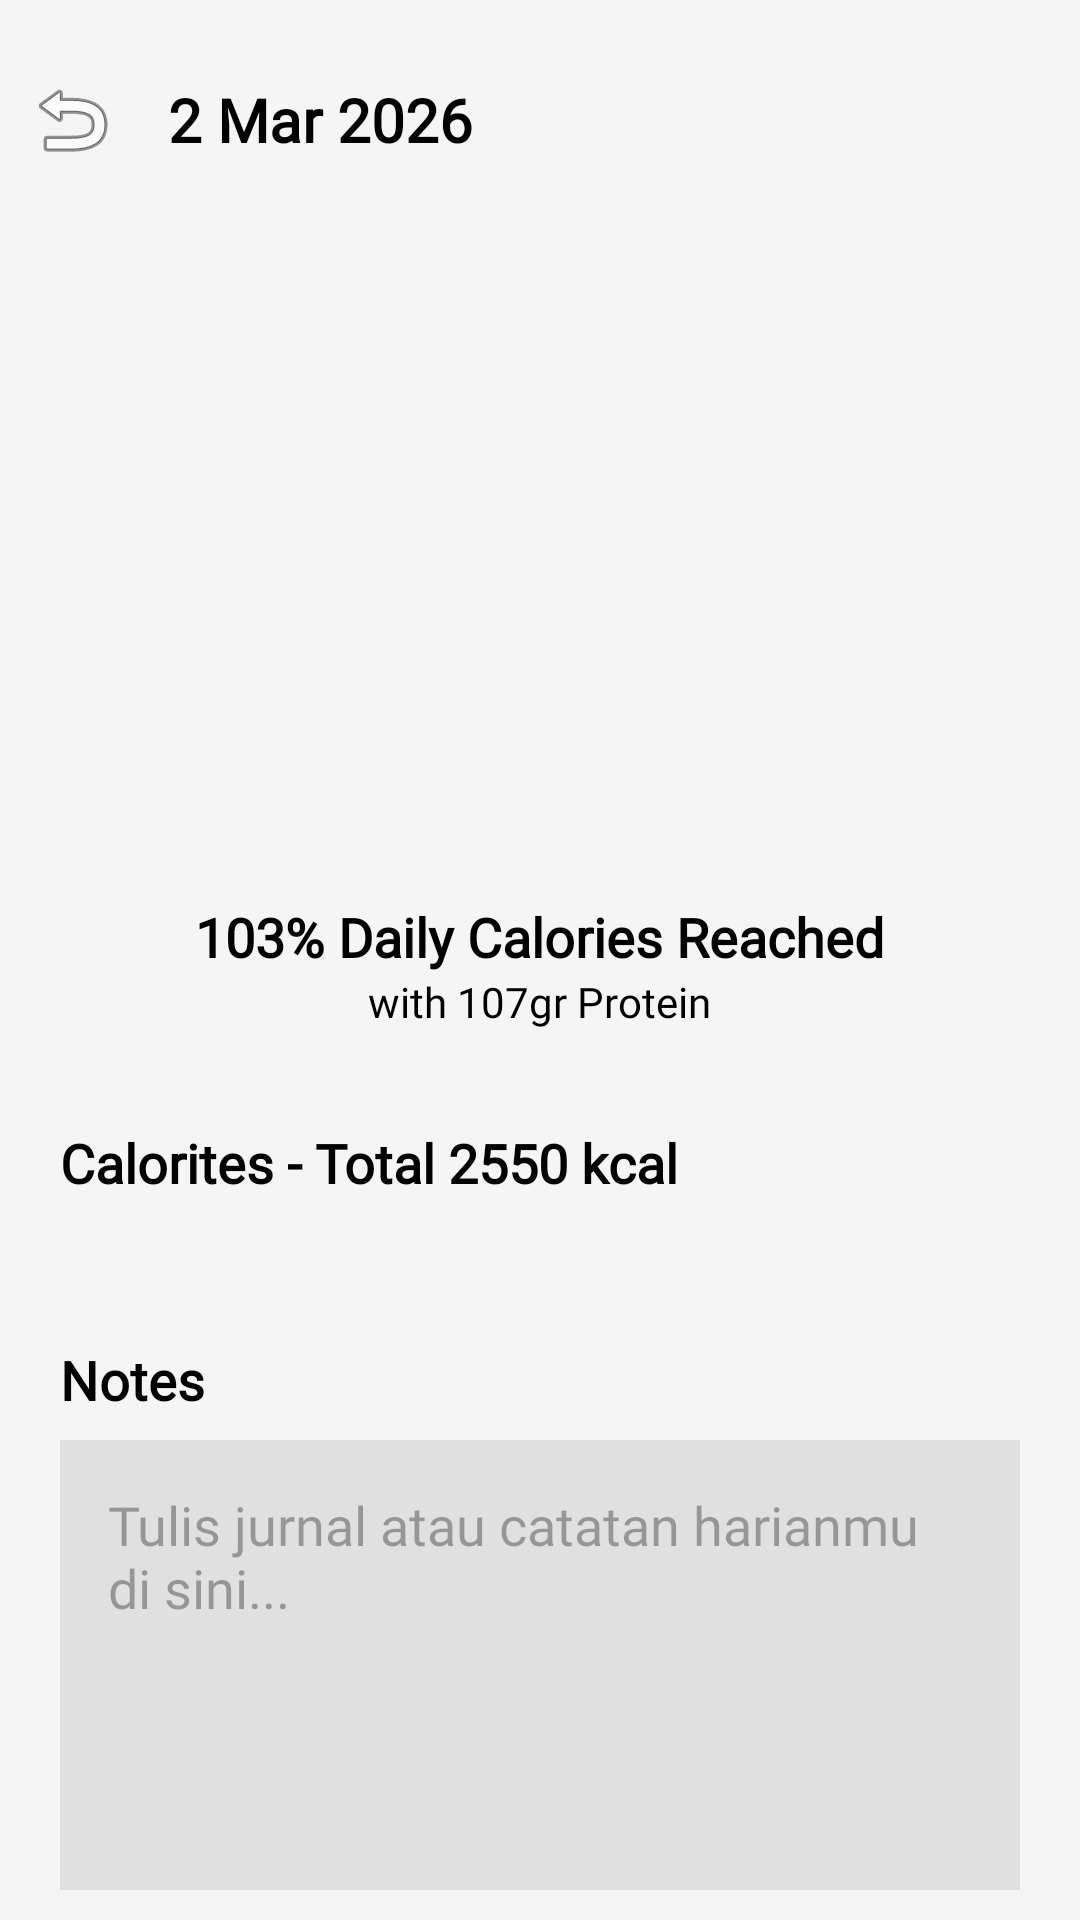

Icons on this 1080*1920 Android screen, each with its box as (x1, y1, x2, y2):
revert: (39, 89, 108, 152)
